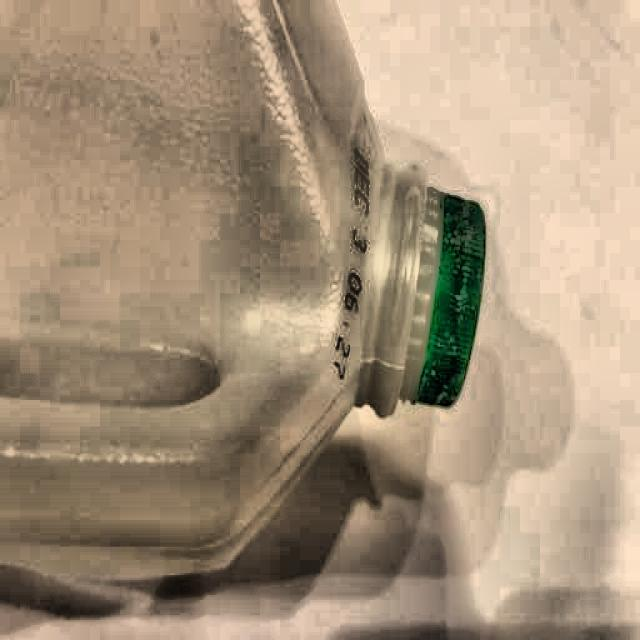plastic: (8, 3, 490, 565)
